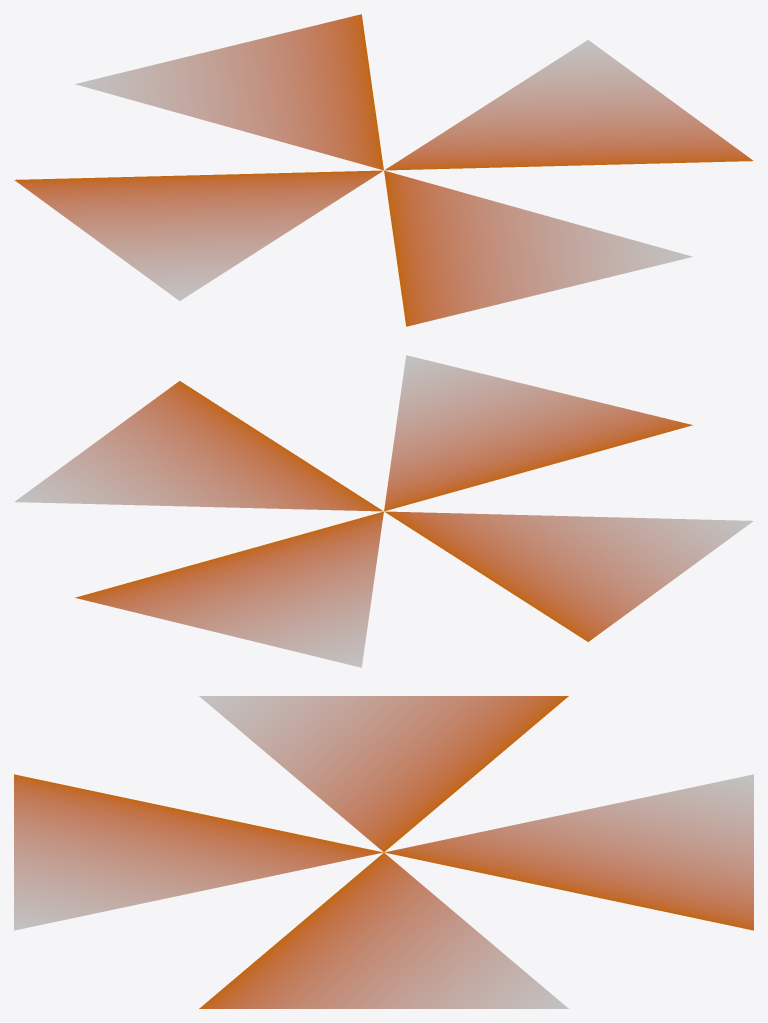
The model's file is Windmill_Wing.fbx.
3 renders of one model, top to bottom at view 1: azimuth 30°, elevation 25°; view 2: azimuth 150°, elevation 25°; view 3: azimuth 270°, elevation 25°, orthographic. The views are drawn at different scales.
Parts seen in each view (by area): view 1: Circle; view 2: Circle; view 3: Circle.
Boxes of the visible parts, x1=… form: Circle: x1=14, y1=14, x2=753, y2=326; Circle: x1=14, y1=355, x2=753, y2=667; Circle: x1=14, y1=696, x2=753, y2=1008.
Bounding box in the file's own units: 260 × 4.24e-05 × 260.
